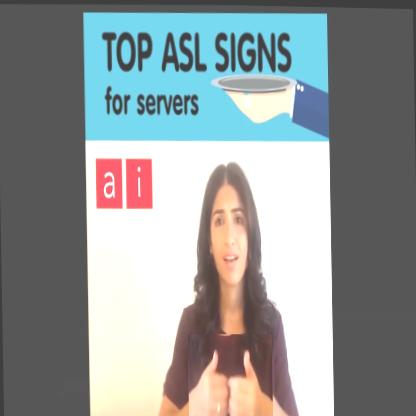HowAreYou: (188, 331, 272, 416)
